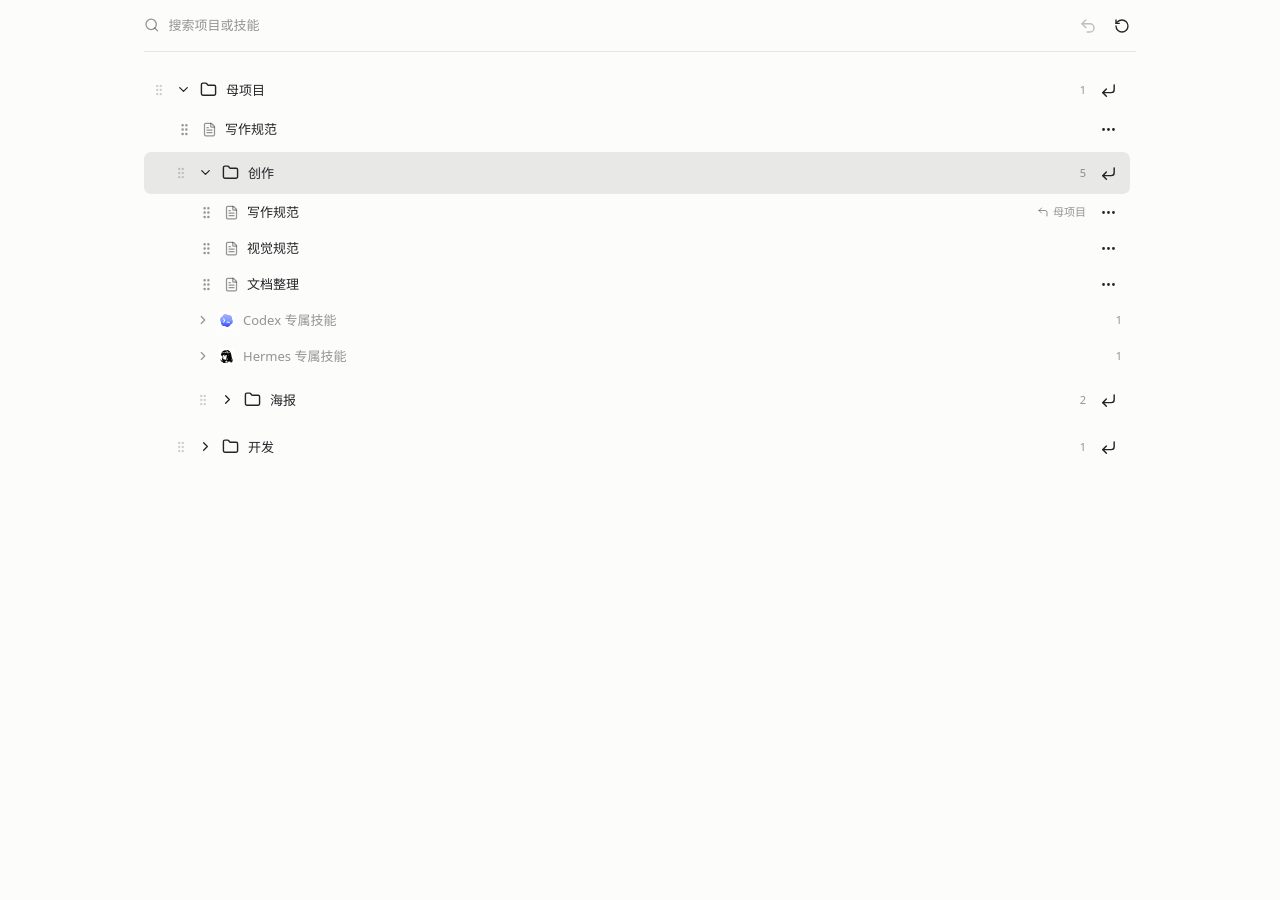
Test: ProjectSkillTree › preserves a duplicate-allocation error instead of treating every 409 as a stale revision
What coordinates should you click on to do the following:
click the button named "的操作"
I would click on:
 (1108, 248)
Its box is [1094,234,1122,262].
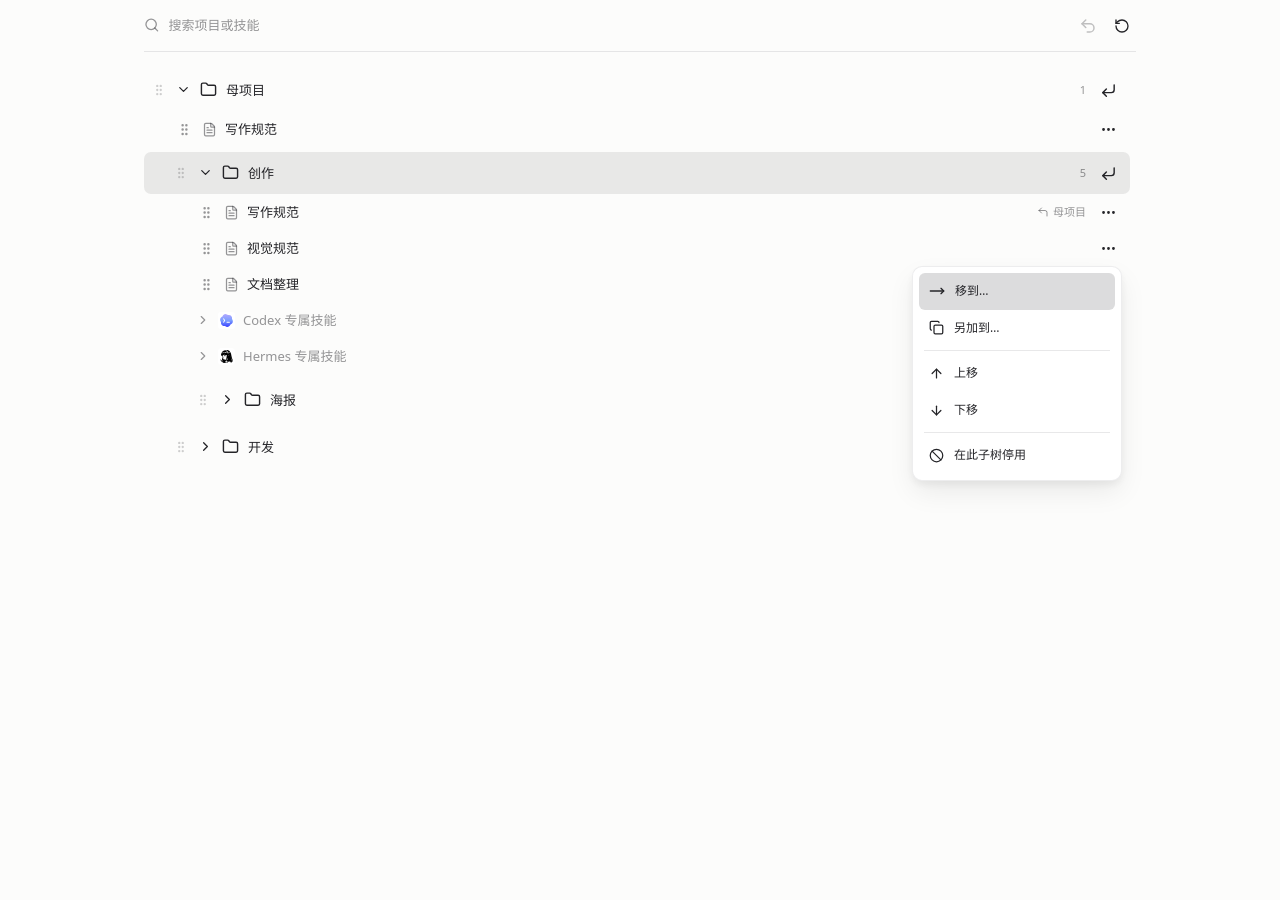
What coordinates should you click on to do the following:
click the menu item "另加到…"
I would click on:
 (1017, 328)
Its box is [919,310,1115,346].
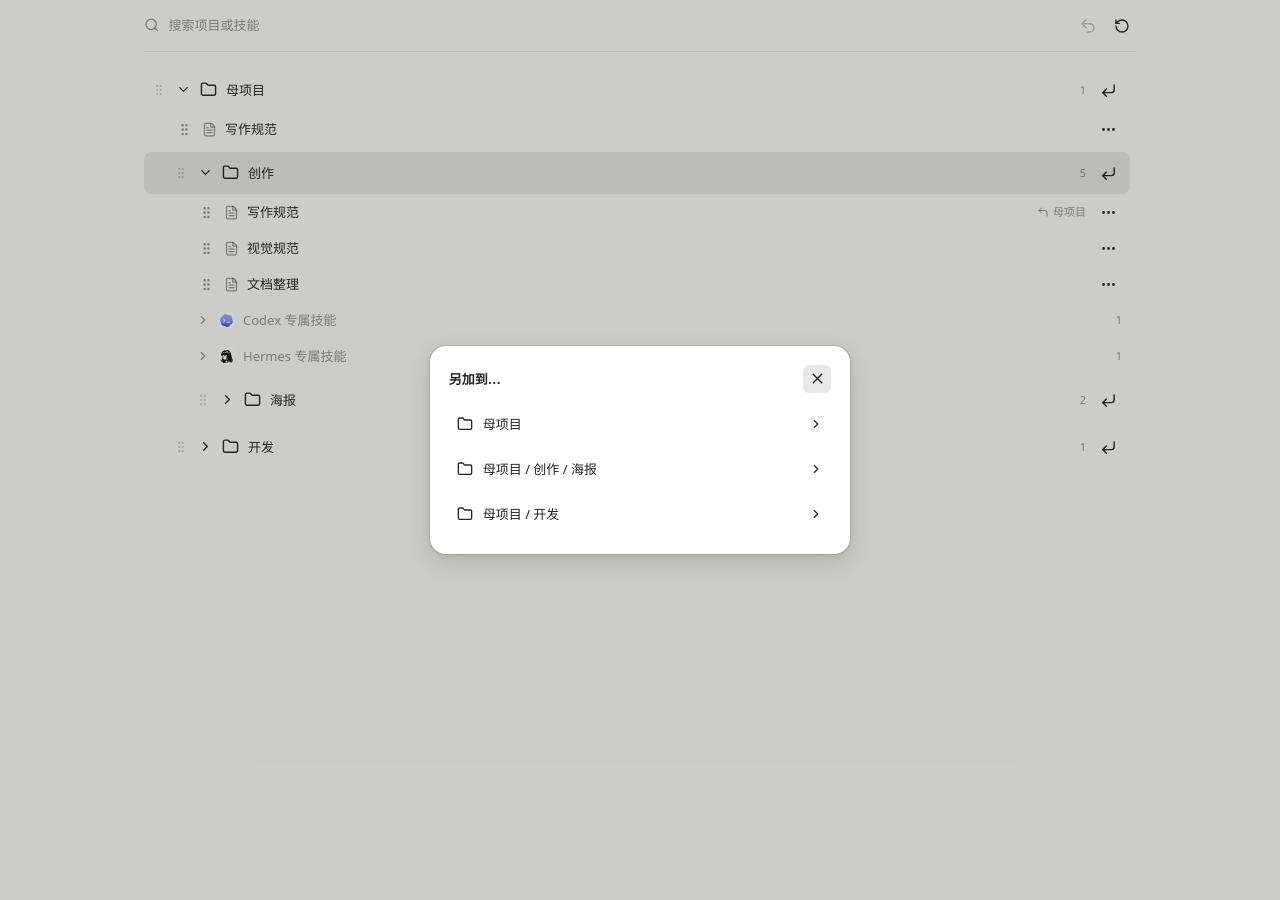
What coordinates should you click on to do the following:
click the button "母项目 / 开发"
I would click on:
 (521, 514)
Its box is [449,493,831,535].
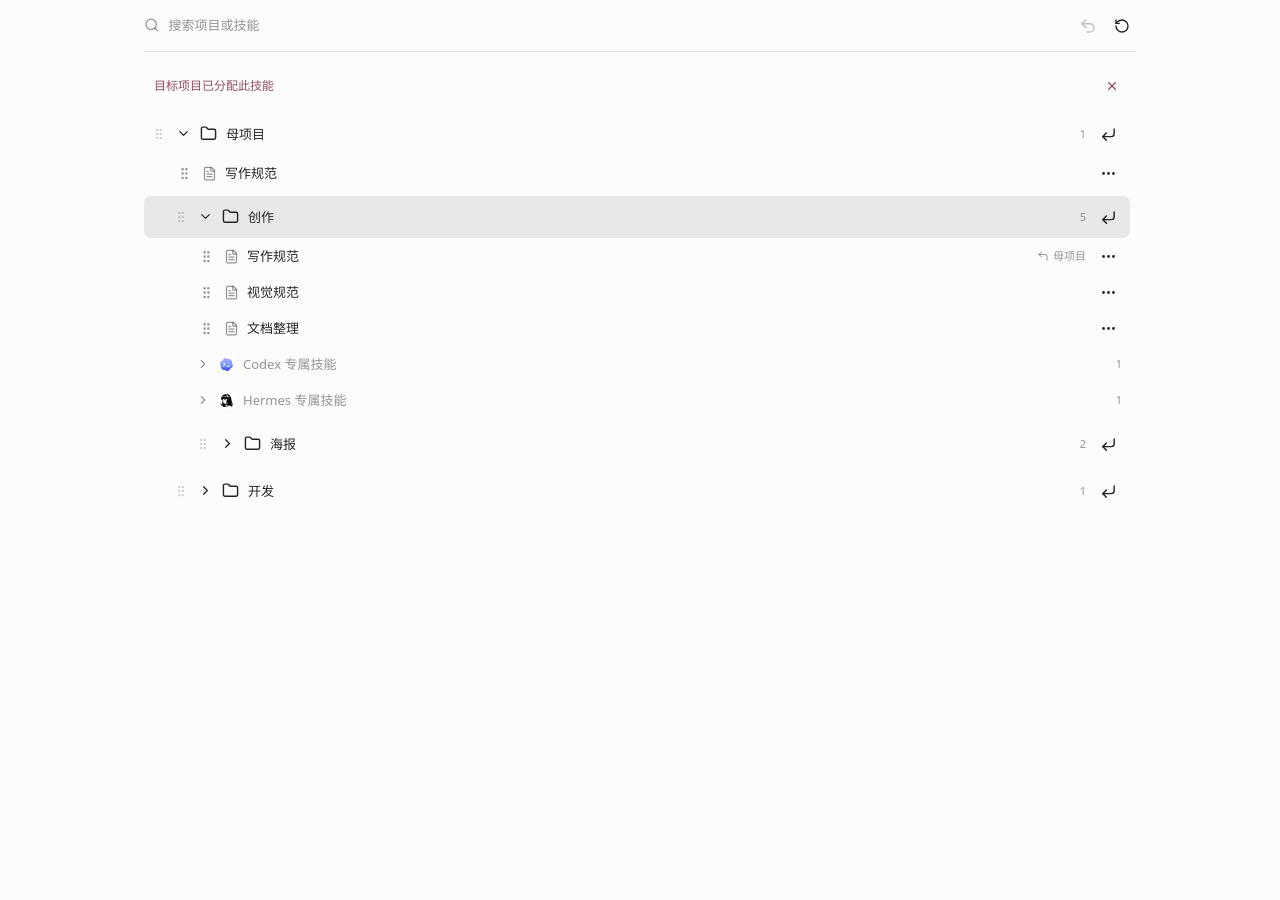
Check: the message reads "目标项目已分配此技能", box [154,77,274,94]
